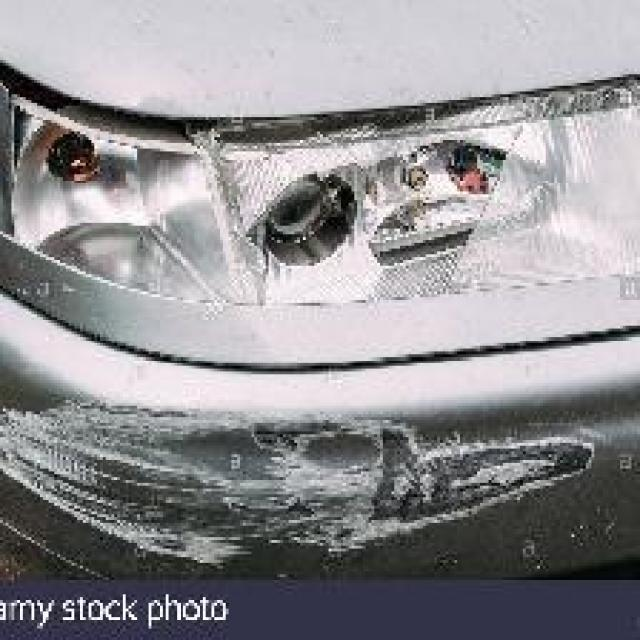damaged: (12, 100, 638, 312), (0, 394, 611, 571)
